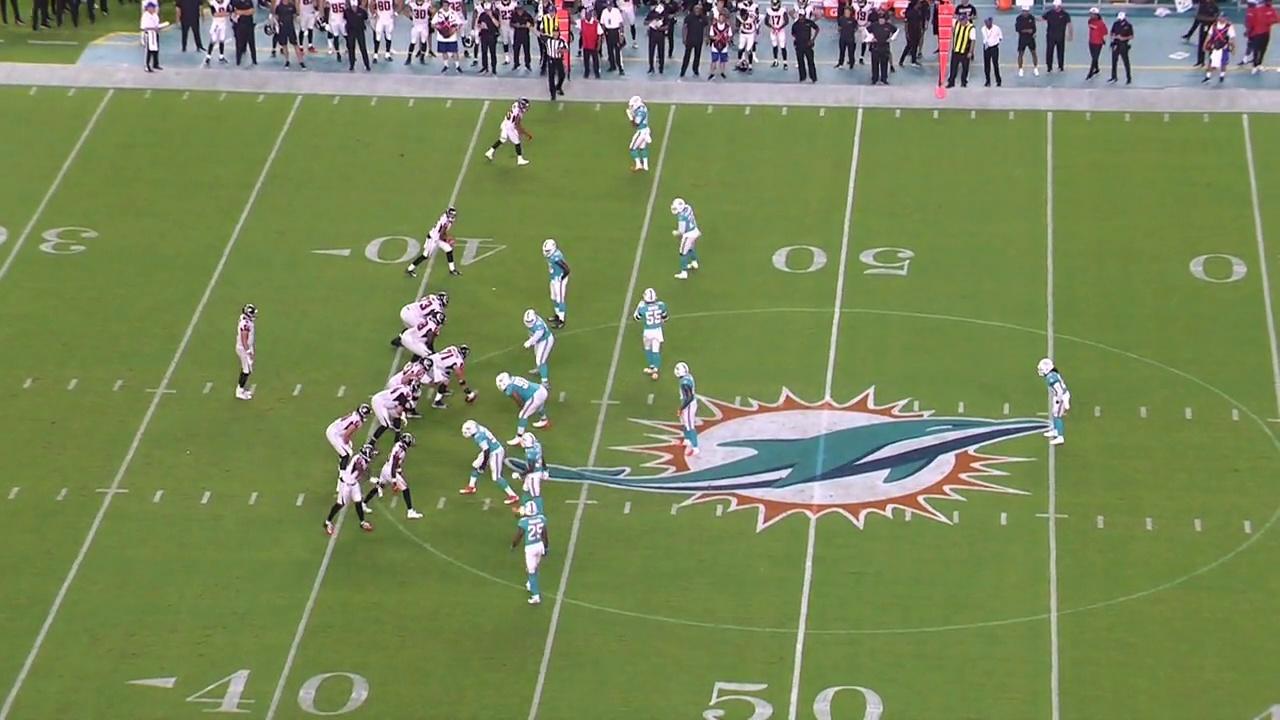defense: (459, 418, 521, 507), (507, 500, 551, 607), (495, 369, 553, 447), (633, 287, 671, 381), (1037, 357, 1076, 447), (510, 430, 550, 517), (671, 361, 706, 460), (538, 235, 574, 331), (520, 303, 558, 390), (667, 197, 704, 284), (624, 94, 656, 179)
oline: (366, 378, 423, 456), (389, 290, 455, 350), (398, 311, 449, 385), (423, 342, 478, 410), (382, 357, 435, 420)
qb: (225, 301, 261, 404)
ref: (529, 18, 571, 106)
skill: (357, 433, 426, 523), (319, 443, 377, 536), (323, 402, 372, 501), (408, 206, 460, 281), (485, 96, 535, 165)
